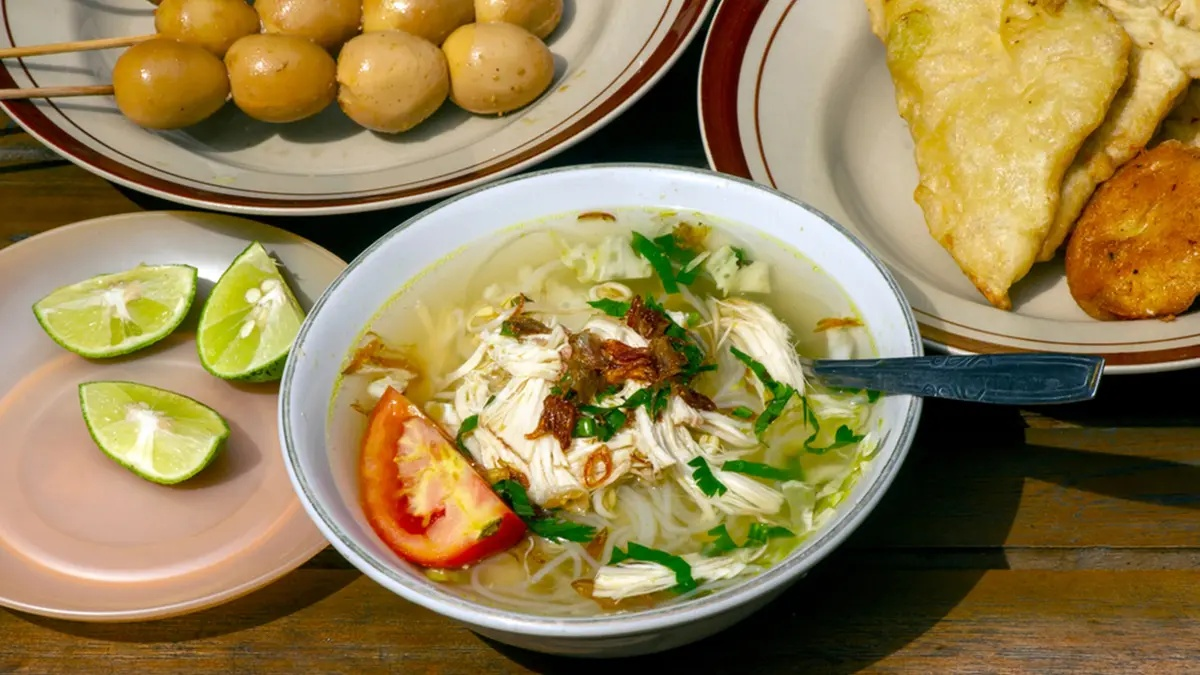soto: (212, 173, 906, 600)
